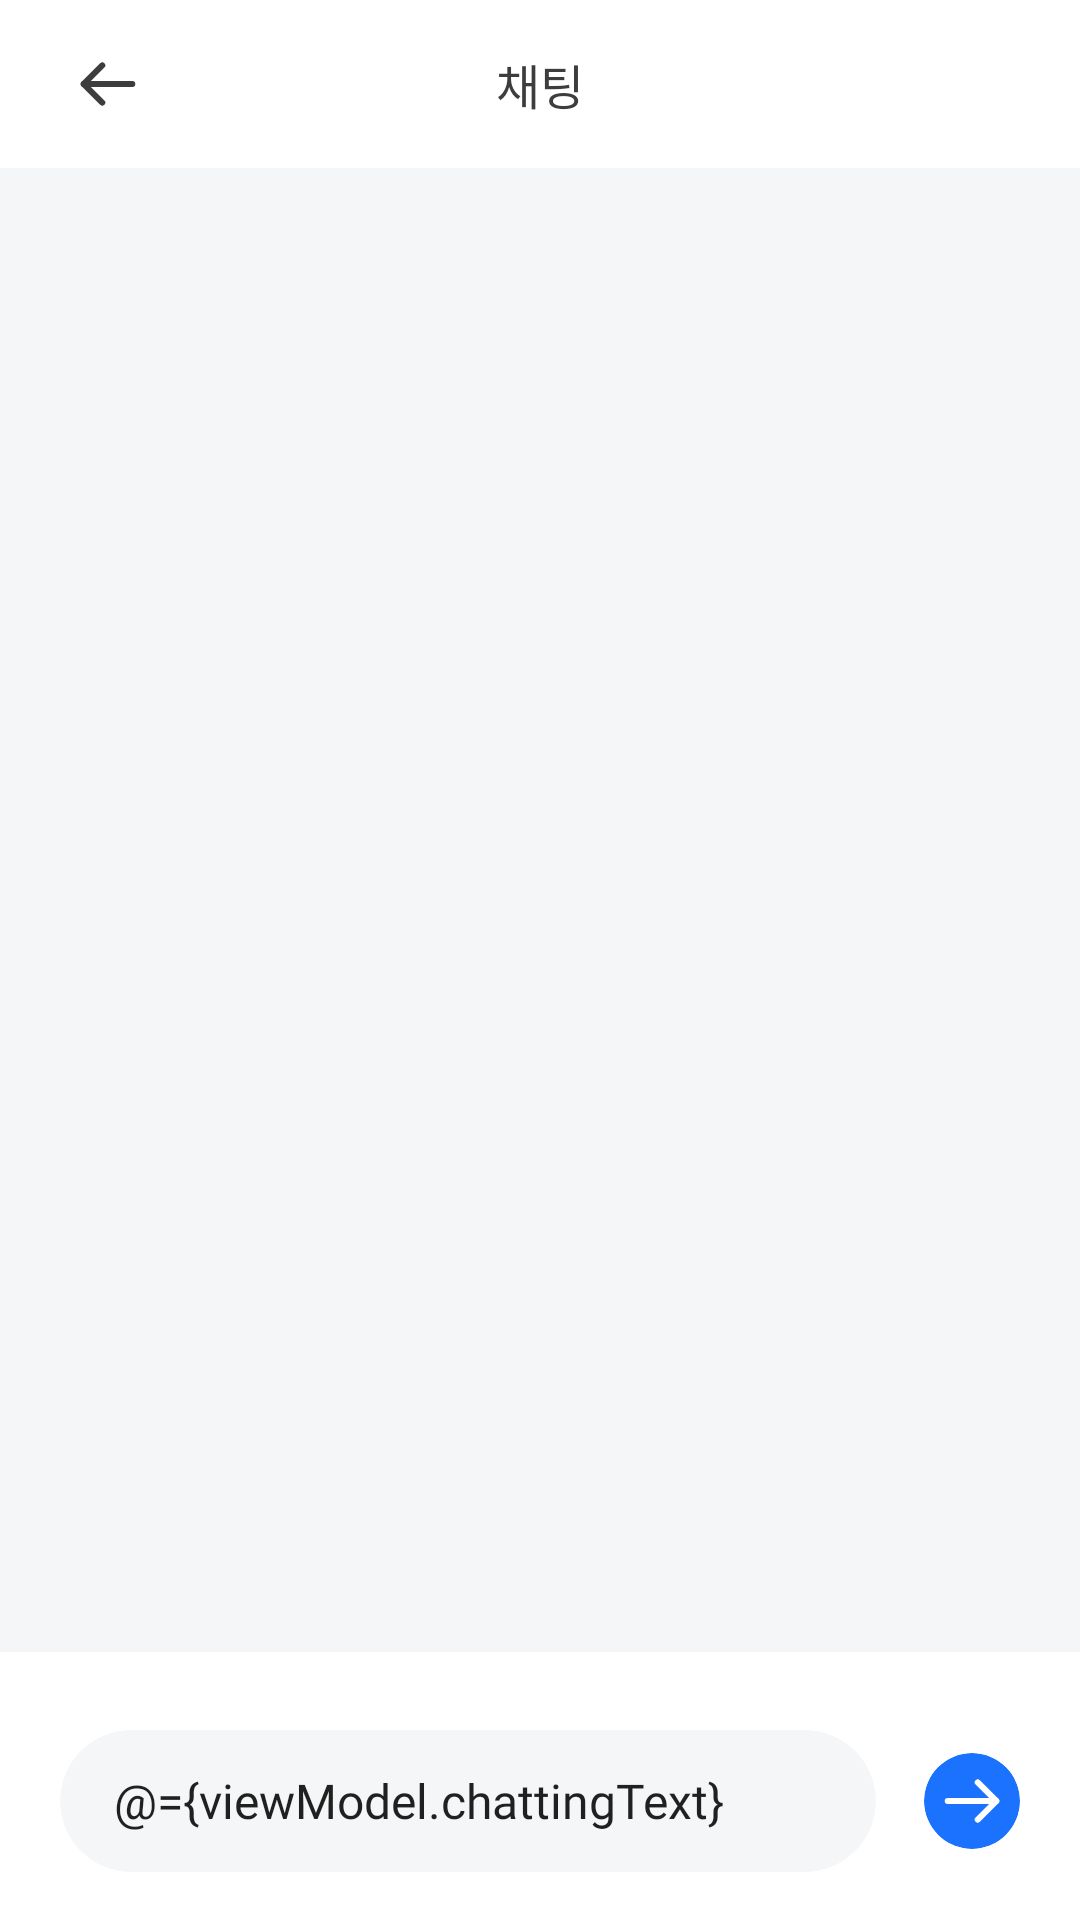

Where to tap for icons on this 1080*1920 app screen, as point (x, y):
back: point (108, 84)
